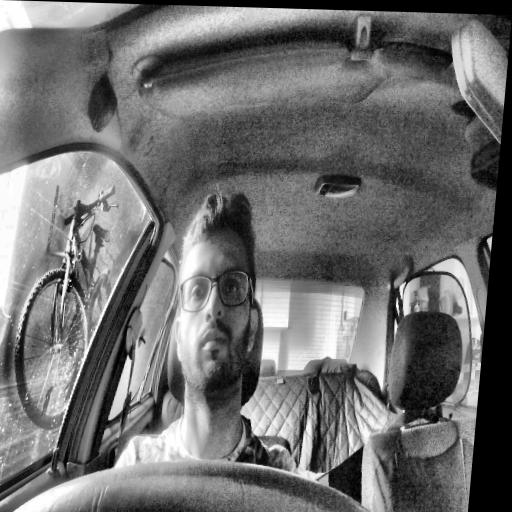awake: (166, 185, 271, 409)
